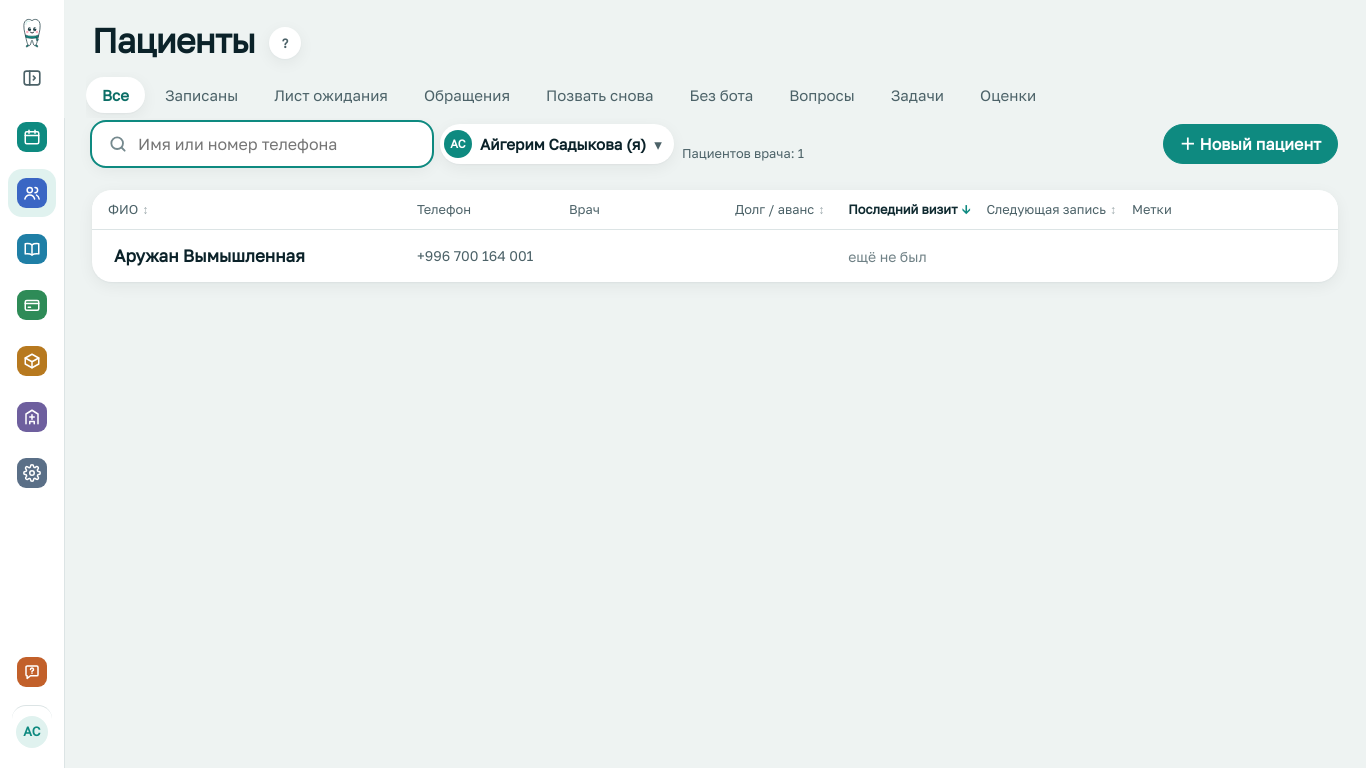
Test case: карточка ребёнка: бейдж по дате рождения и строка представителя
Click the button "Аружан Вымышленная" at (209, 256), box [114,243,305,269]
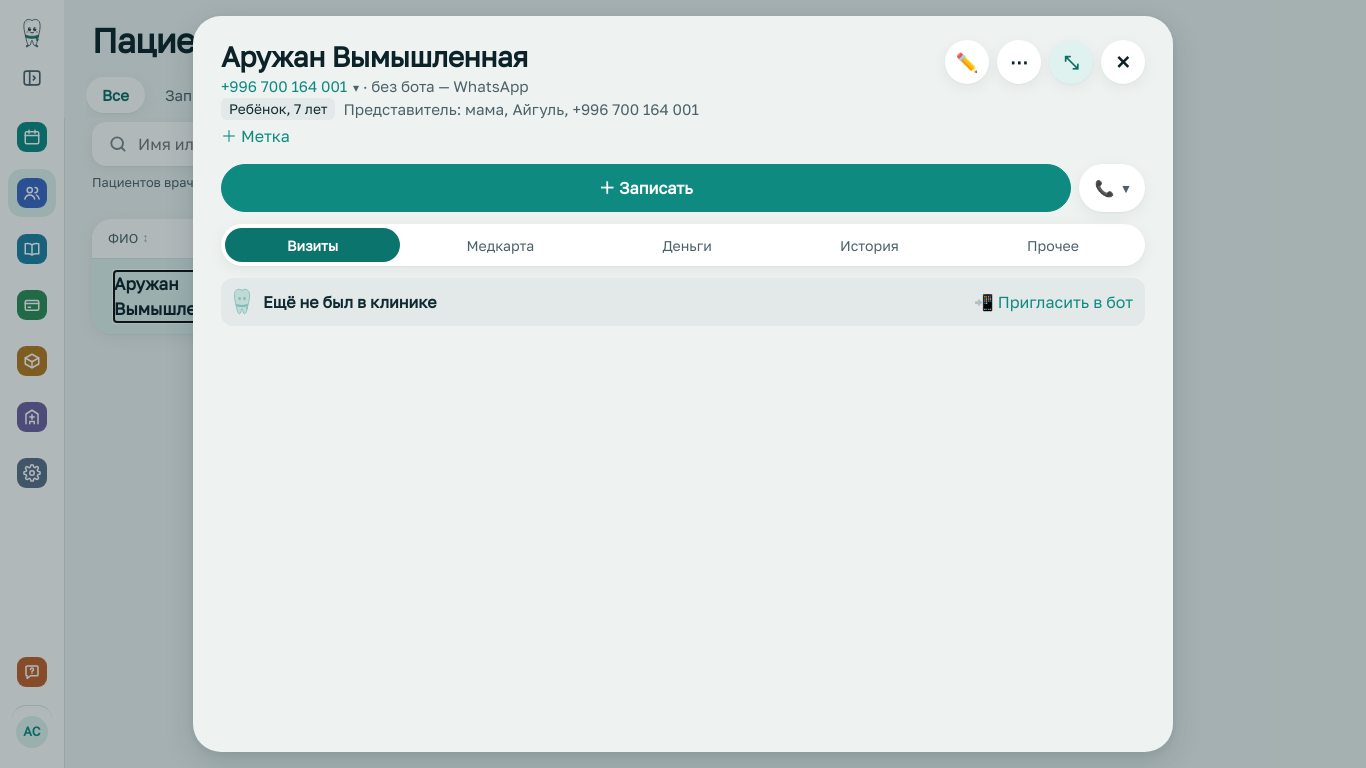
Result: the text "Ребёнок, 7 лет" is shown at [221,98,336,120]
Result: the text "Представитель: мама, Айгуль, +996 700 164 001" is shown at [344,98,699,120]
